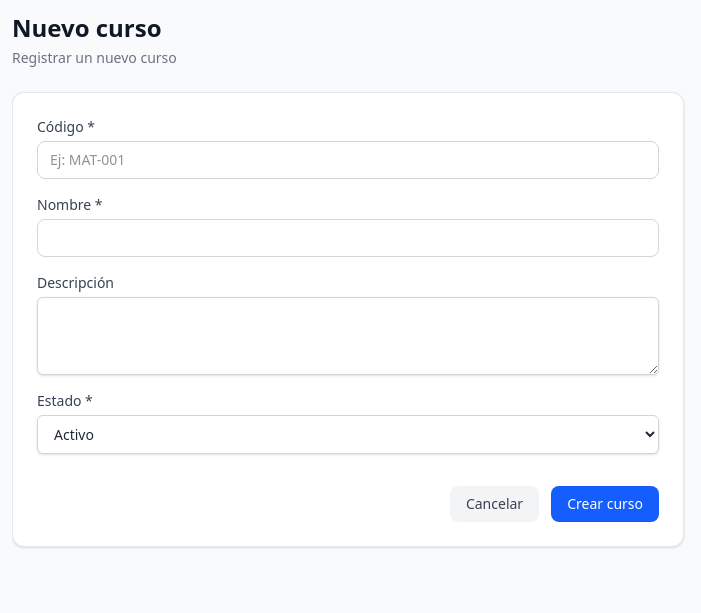
Test: CourseFormPage › shows validation errors on empty submit
Click the button "Crear curso": (605, 504) [551,486,659,522]
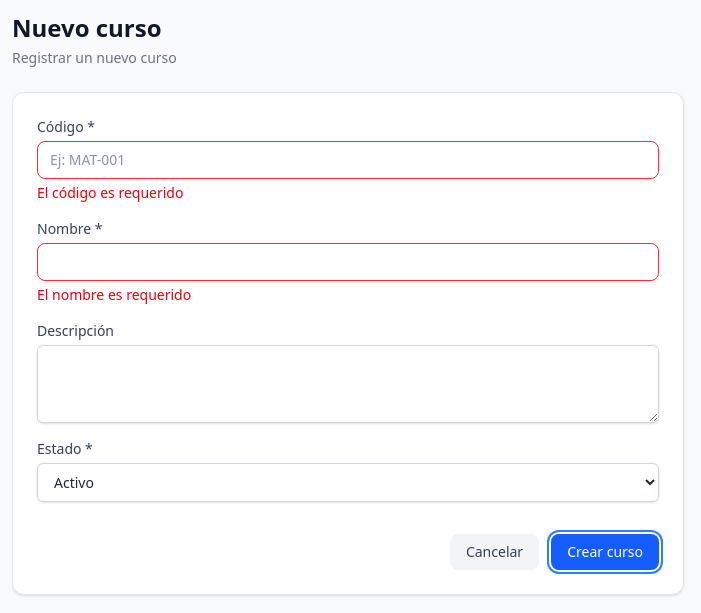
Expected: the text "El código es requerido" is shown, [37,183,184,202]
Expected: the text "El nombre es requerido" is shown, [37,285,191,304]
